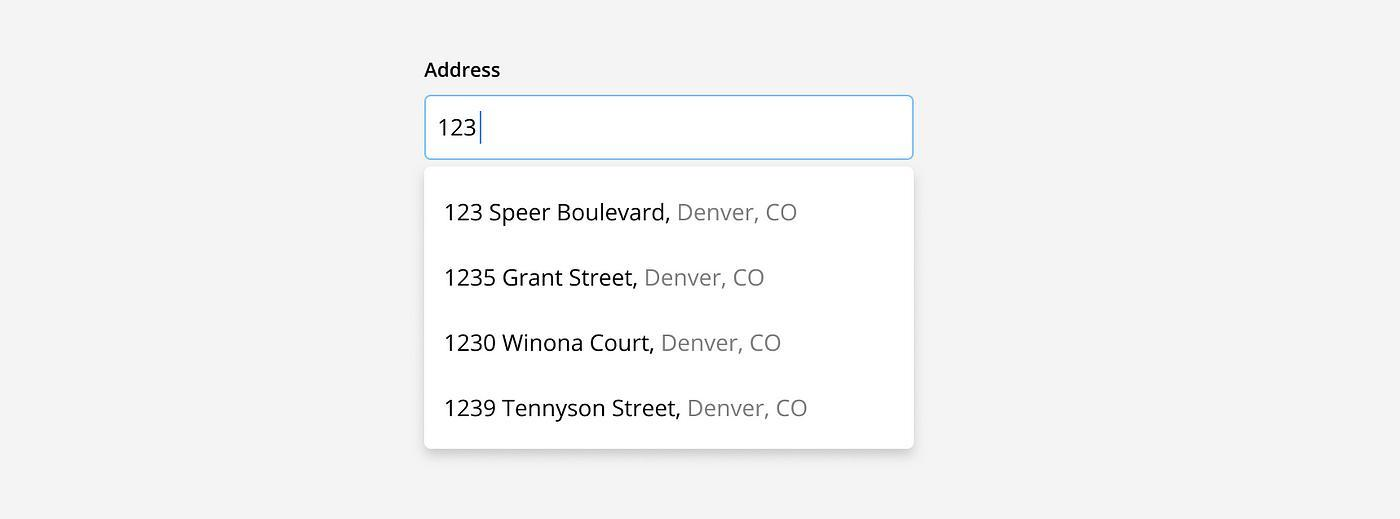input: (425, 96, 914, 160)
